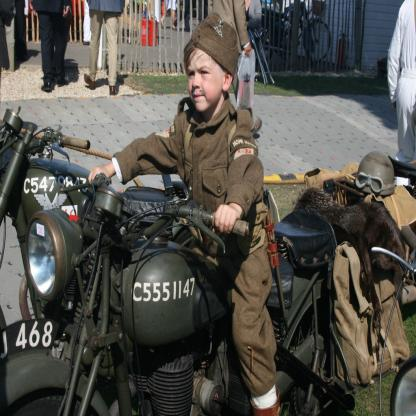Helmet: (356, 154, 400, 202)
